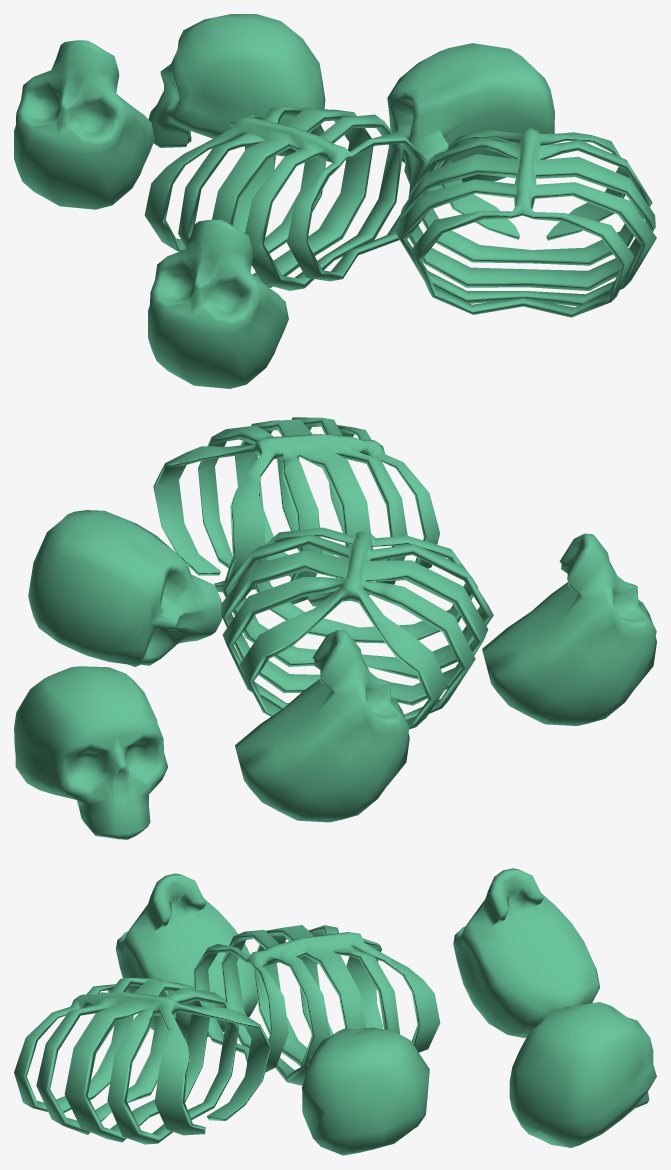
Rendered from Bones_Basket_01A_Lod1.fbx.
3 renders of one model, top to bottom at view 1: azimuth 30°, elevation 25°; view 2: azimuth 150°, elevation 25°; view 3: azimuth 270°, elevation 25°, orthographic. The views are drawn at different scales.
Visible parts, largest first — view 1: Bones_Basket_01A_Lod1; view 2: Bones_Basket_01A_Lod1; view 3: Bones_Basket_01A_Lod1.
Part boxes in pixels (box(x1,y1,x2,y2)): Bones_Basket_01A_Lod1: box(14, 14, 656, 388); Bones_Basket_01A_Lod1: box(14, 417, 656, 839); Bones_Basket_01A_Lod1: box(14, 868, 656, 1155).
Bounding box in the file's own units: 59.81 × 23.4 × 74.89.
